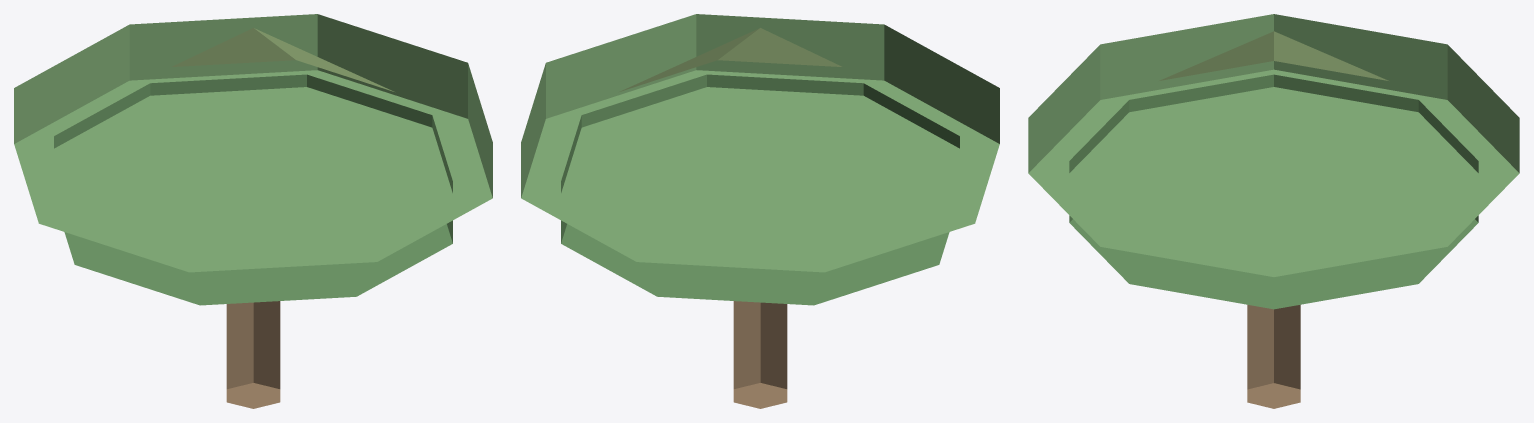
Rendered from stone_pine.glb.
3 renders of one model, left to right at view 1: azimuth 30°, elevation 25°; view 2: azimuth 150°, elevation 25°; view 3: azimuth 270°, elevation 25°, orthographic.
Visible parts, largest first — view 1: stone_pine; view 2: stone_pine; view 3: stone_pine.
Part boxes in pixels (x1,y1,x2,y2): stone_pine: [14, 14, 492, 408]; stone_pine: [521, 14, 999, 408]; stone_pine: [1028, 14, 1519, 408].
Bounding box in the file's own units: 0.72 × 0.59 × 0.72.
